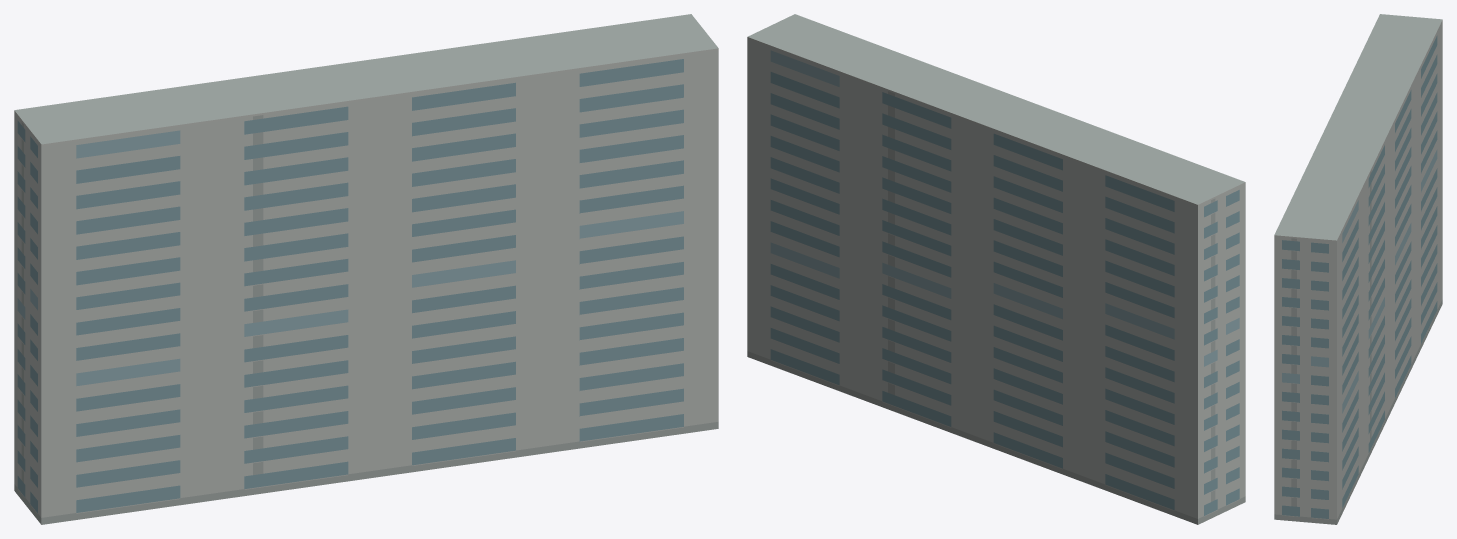
File: residential-0fb38cf5-e693-400f-89b2-4916b04faa23.glb
3 views of the same model, side by side, from view 1: azimuth 30°, elevation 25°; view 2: azimuth 150°, elevation 25°; view 3: azimuth 270°, elevation 25° (orthographic). The views are drawn at different scales.
Visible parts, largest first — view 1: residential-0fb38cf5-e693-400f-89b2-4916b04faa23.tmp; view 2: residential-0fb38cf5-e693-400f-89b2-4916b04faa23.tmp; view 3: residential-0fb38cf5-e693-400f-89b2-4916b04faa23.tmp.
Boxes of the visible parts, x1,y1,x2,y2 form: residential-0fb38cf5-e693-400f-89b2-4916b04faa23.tmp: (14,14,718,524); residential-0fb38cf5-e693-400f-89b2-4916b04faa23.tmp: (747,14,1245,524); residential-0fb38cf5-e693-400f-89b2-4916b04faa23.tmp: (1274,14,1442,524).
Bounding box in the file's own units: 78.18 × 45.75 × 24.59.
